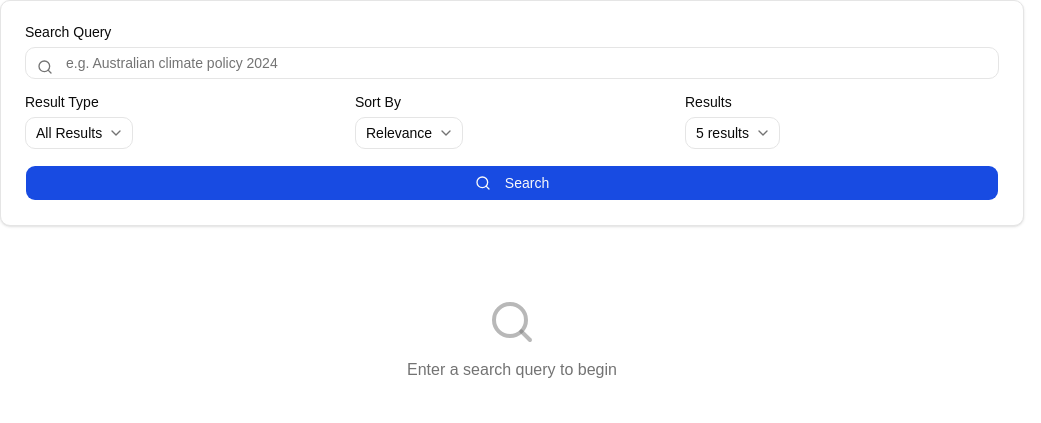
ResearcherSearchPage › shows validation error for empty query
Click the button "Search": (512, 183) [25, 165, 999, 201]
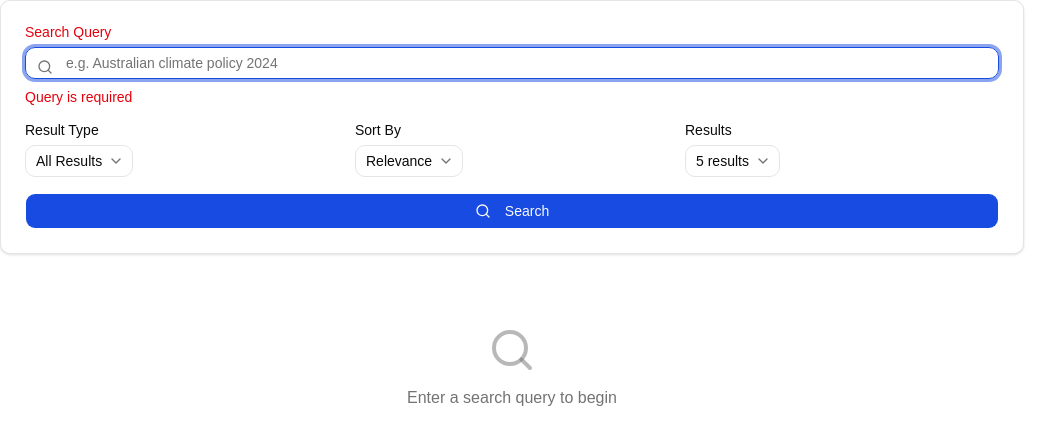
Check: the text "Query is required" is shown, box [25, 89, 132, 105]
